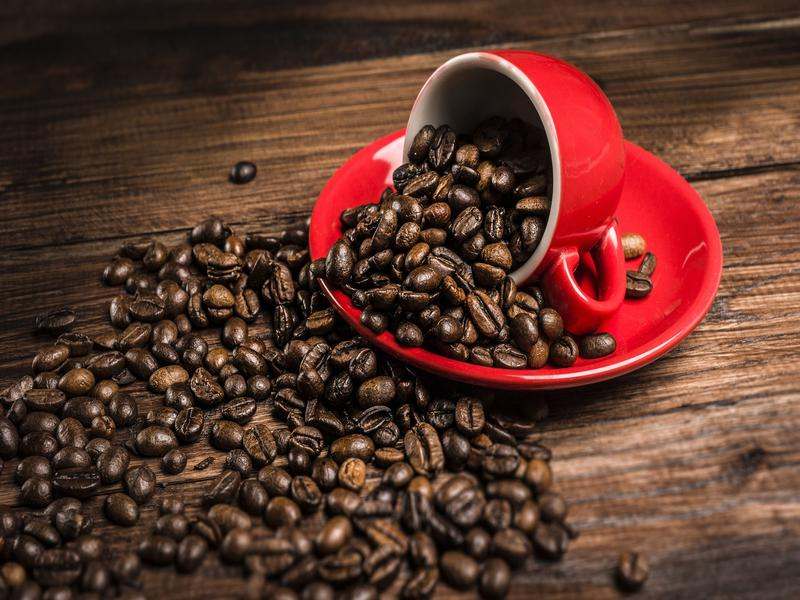cup: (307, 41, 733, 399)
